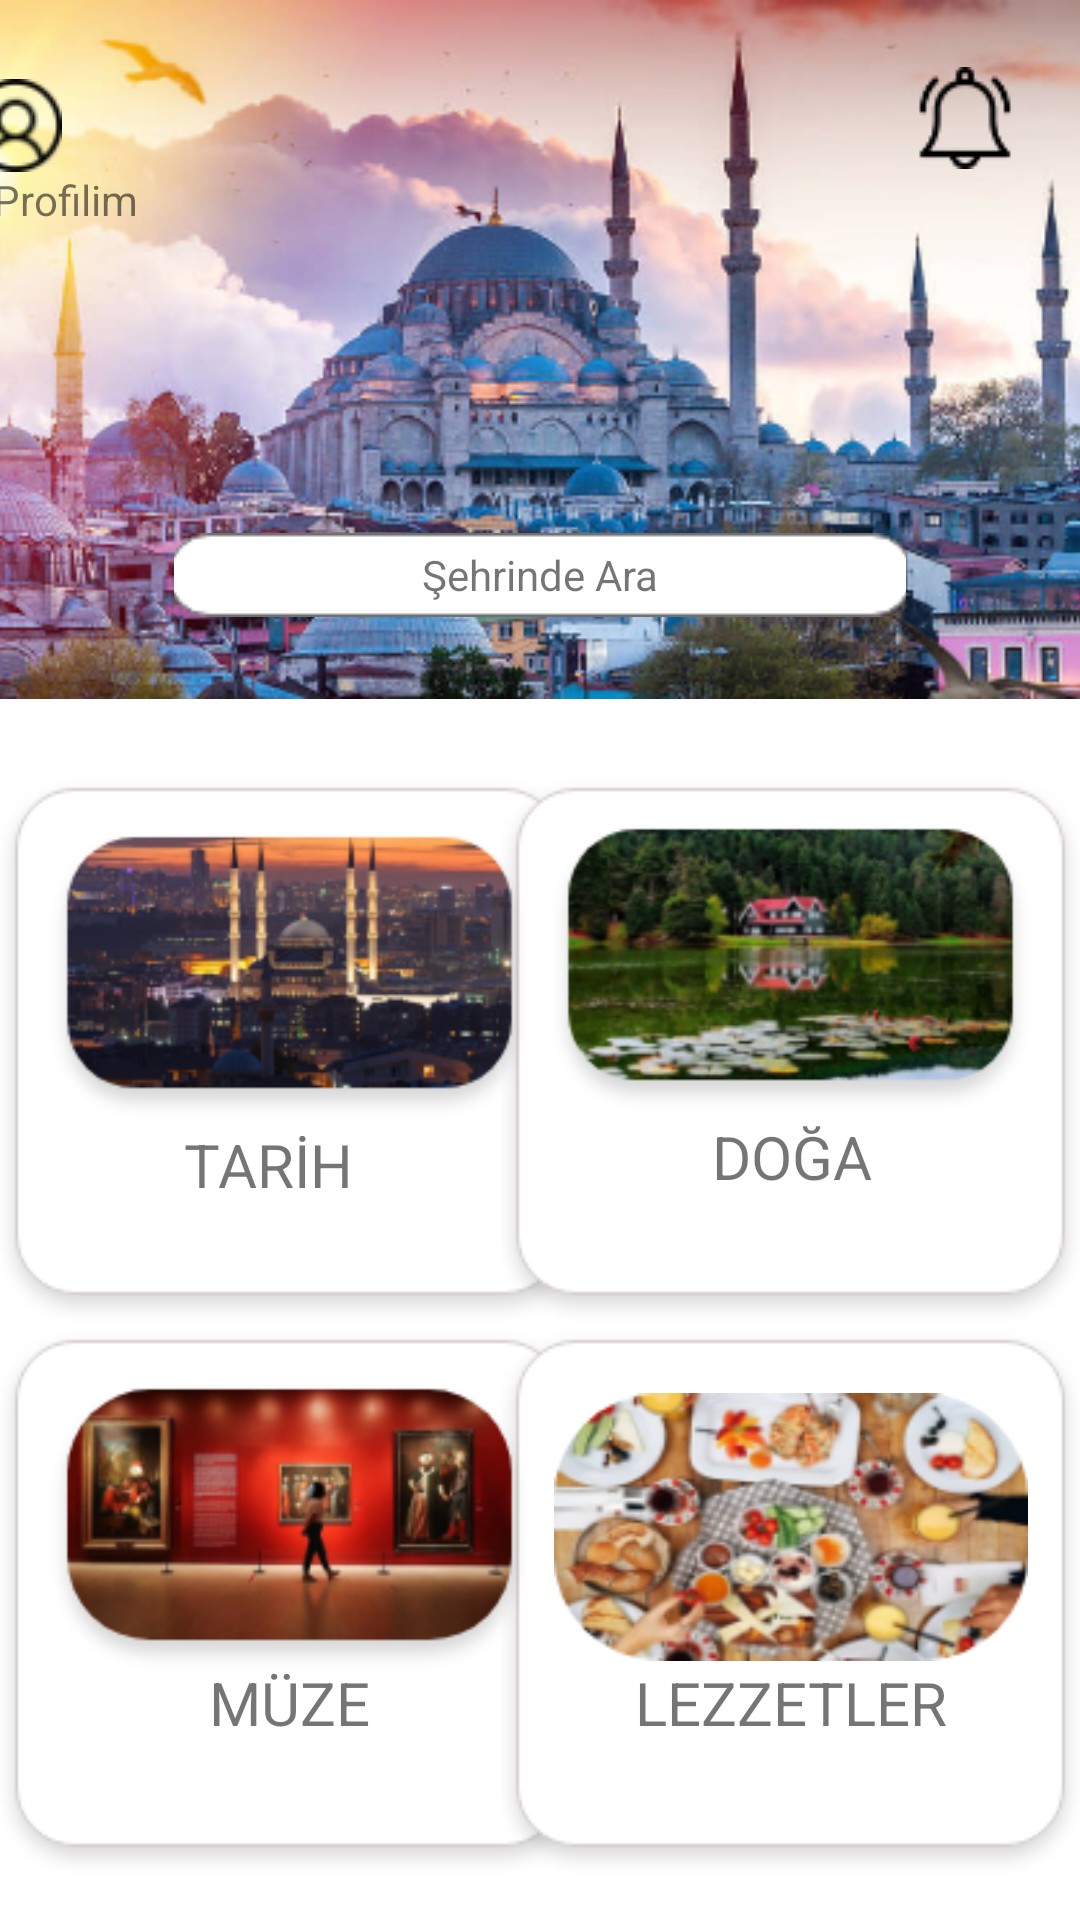

Point at icon controls on the screen. Image size 1080w x 1920h, points as point (x, y).
notification: point (964, 117)
